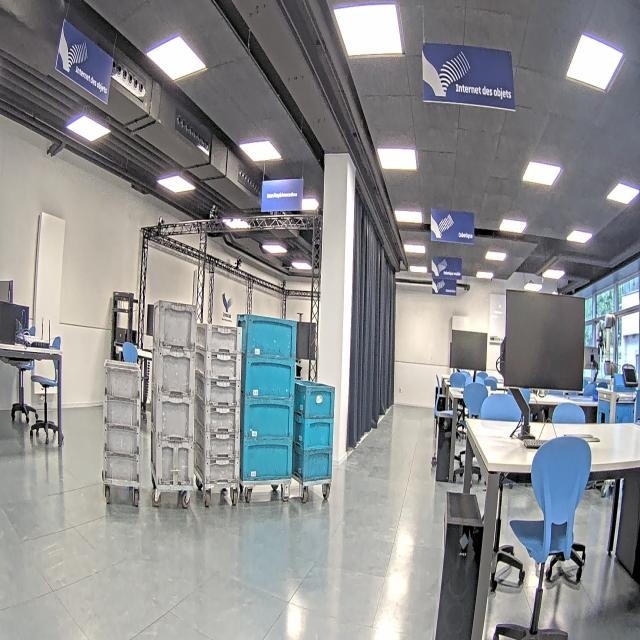Box3G: (192, 390, 240, 434), (192, 367, 242, 408), (192, 419, 240, 460), (192, 445, 240, 484), (194, 324, 240, 354), (195, 351, 241, 380)
Box4G: (152, 298, 198, 352), (151, 392, 195, 443), (152, 345, 194, 397), (154, 436, 196, 486)
Box8G: (103, 360, 142, 402), (103, 394, 141, 432), (102, 450, 142, 483), (103, 426, 141, 459)
BoxB4: (238, 316, 300, 366), (241, 359, 298, 404), (240, 400, 298, 443), (238, 439, 294, 482)
BoxB8: (290, 380, 334, 422), (292, 446, 335, 483), (292, 416, 336, 451)
